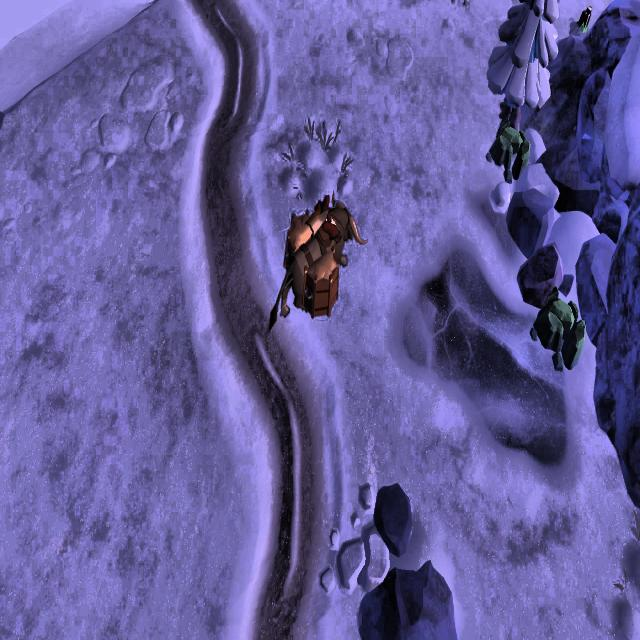ore_t3: (576, 6, 592, 32)
rock_t3: (531, 279, 591, 373), (483, 109, 531, 185)
